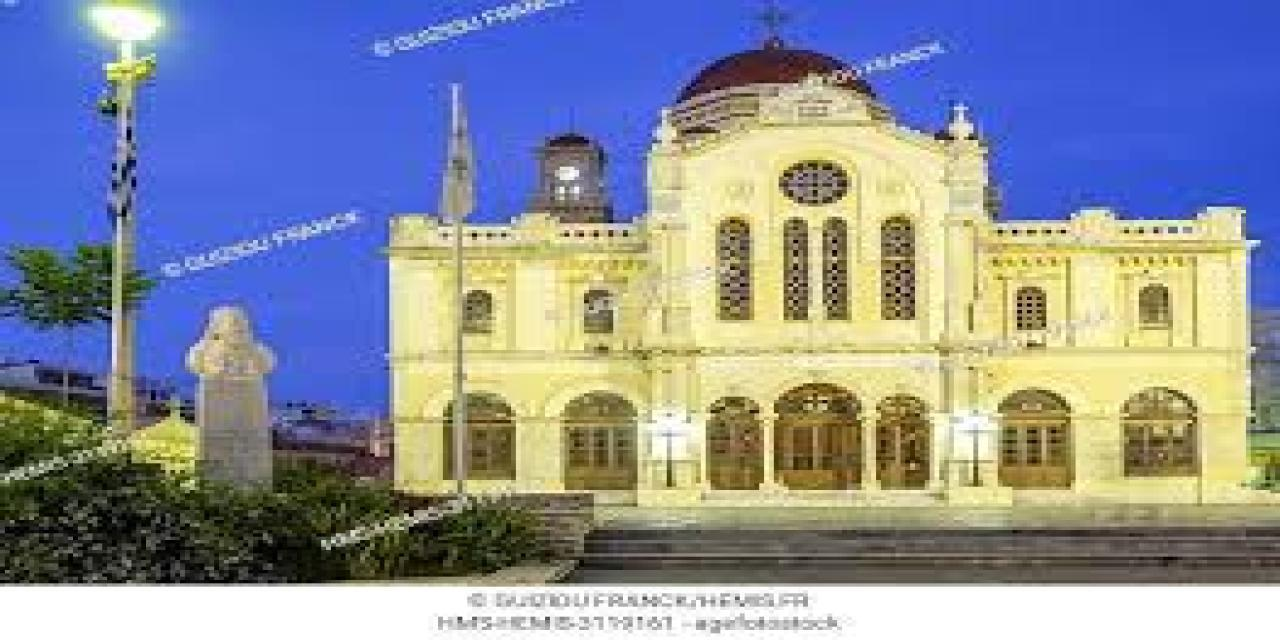Agios Minas: (391, 6, 1280, 506)
